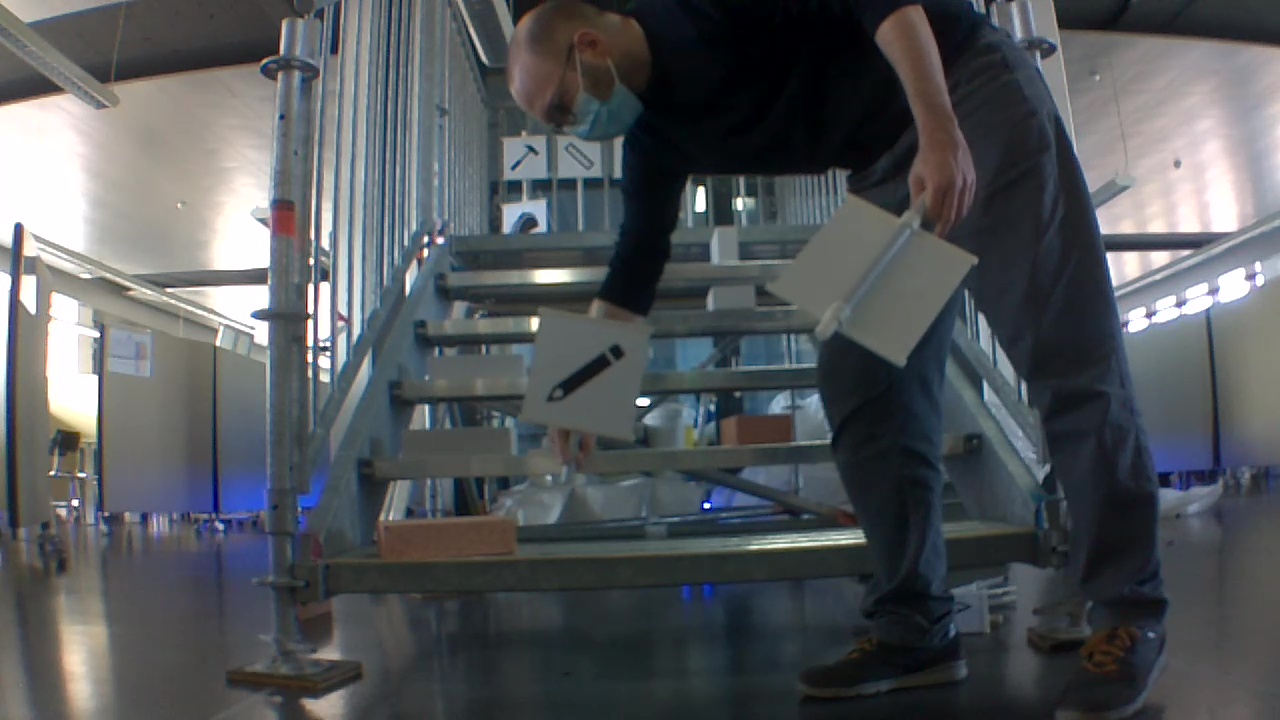brick: (377, 515, 519, 558), (398, 426, 519, 458), (424, 355, 526, 380), (719, 413, 794, 447), (703, 285, 759, 311), (710, 227, 739, 265)
edge: (315, 541, 861, 601)
hammer: (507, 143, 539, 173)
pencil: (547, 343, 628, 404)
ruler: (567, 141, 597, 172)
taco: (510, 206, 541, 233)
